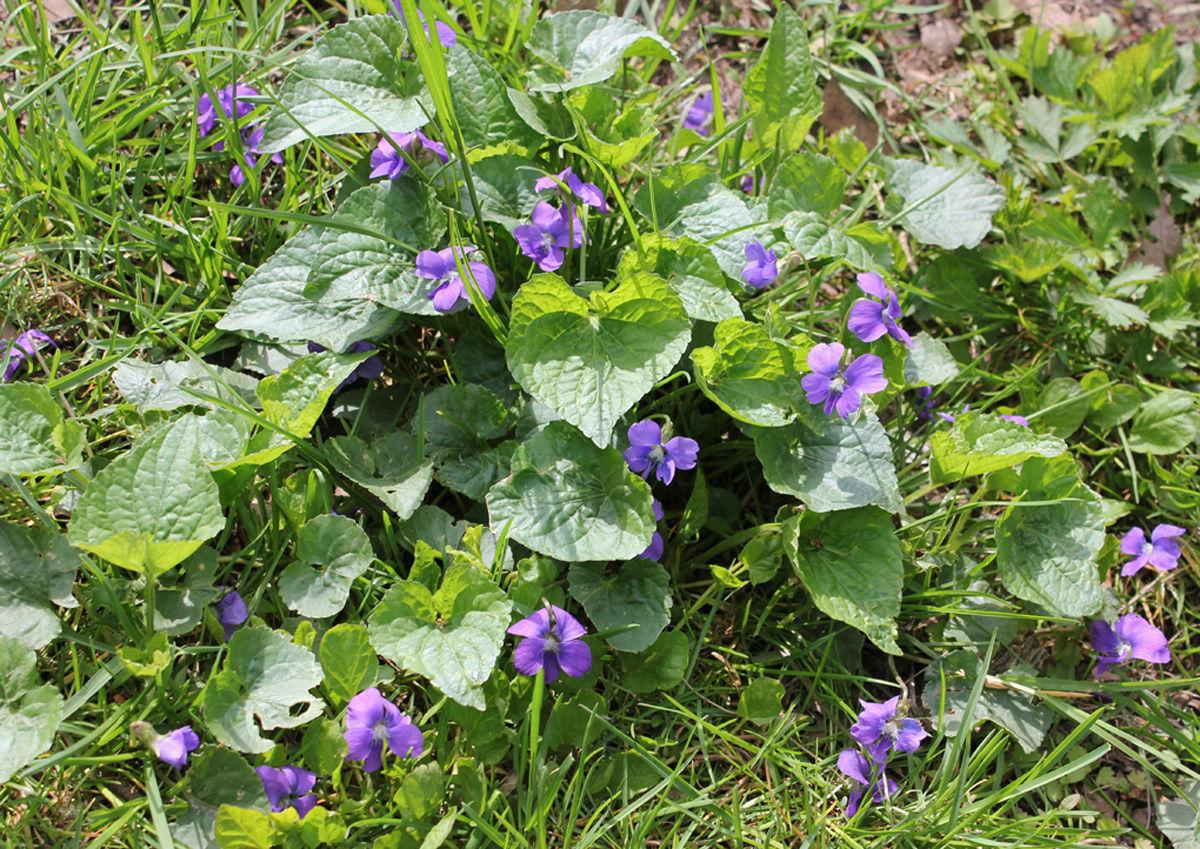violet: (400, 234, 517, 323), (323, 693, 443, 773), (784, 343, 894, 421), (496, 595, 589, 683), (837, 279, 929, 359), (616, 402, 699, 487), (1111, 502, 1200, 577), (839, 700, 930, 770), (1085, 614, 1180, 674), (507, 197, 585, 264), (365, 128, 439, 189), (736, 245, 797, 294)
